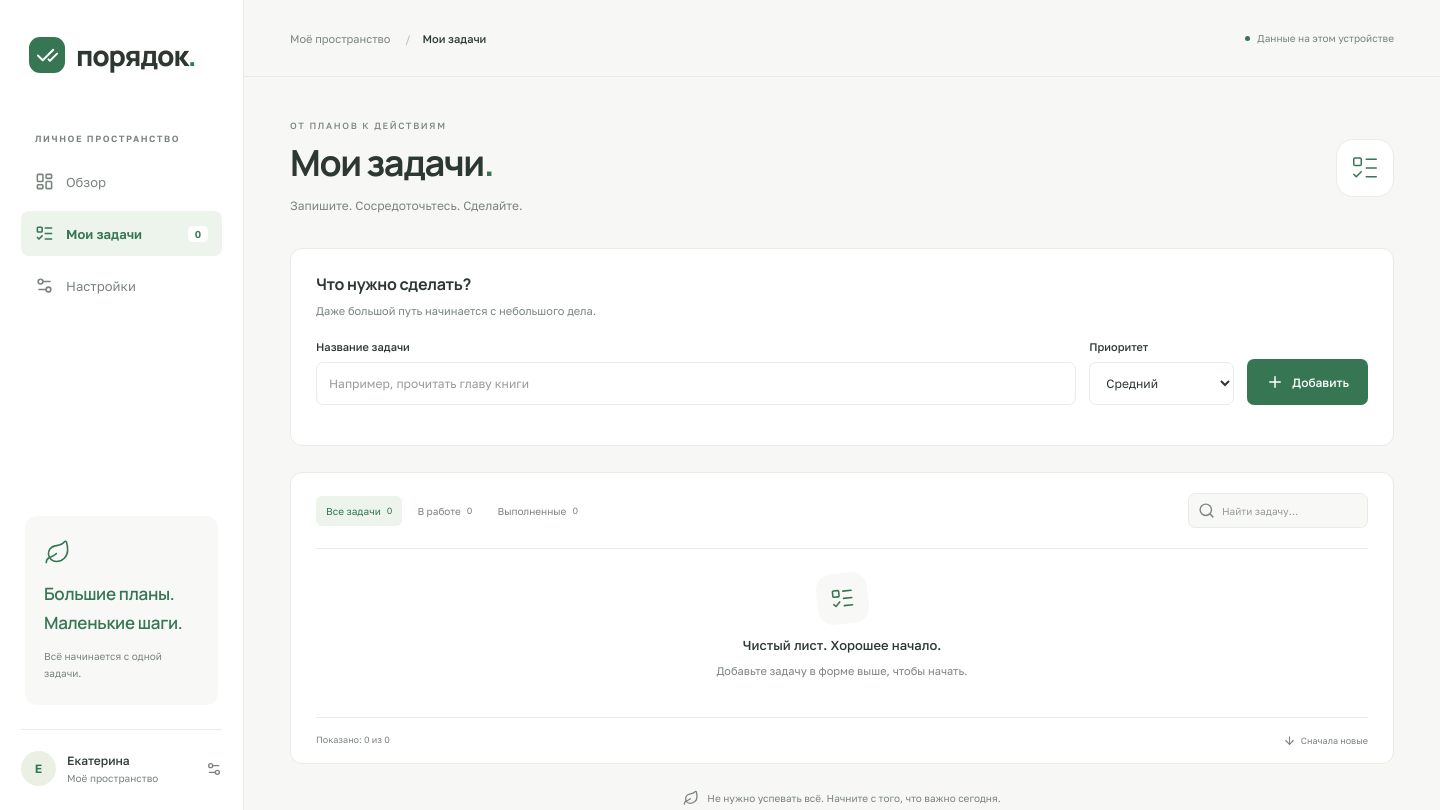
Test: добавляет задачу через форму и обновляет обзор после перехода
Type "Изучить роутинг" into the field labelled "Название задачи".
click(696, 384); type("Изучить роутинг")  # box x1=316 y1=362 x2=1076 y2=406
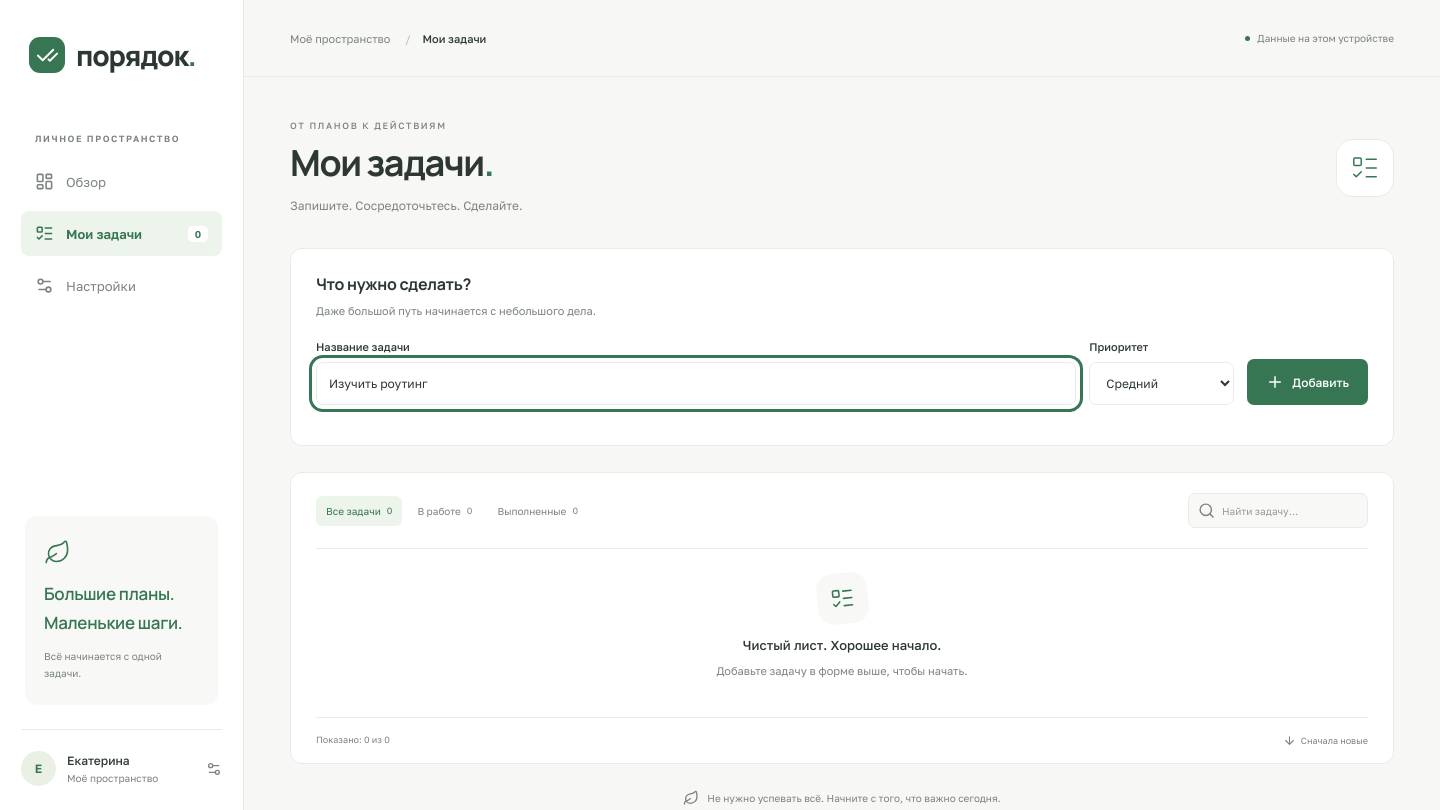
Click the button "Добавить".
click(1308, 382)  # box x1=1247 y1=360 x2=1368 y2=406
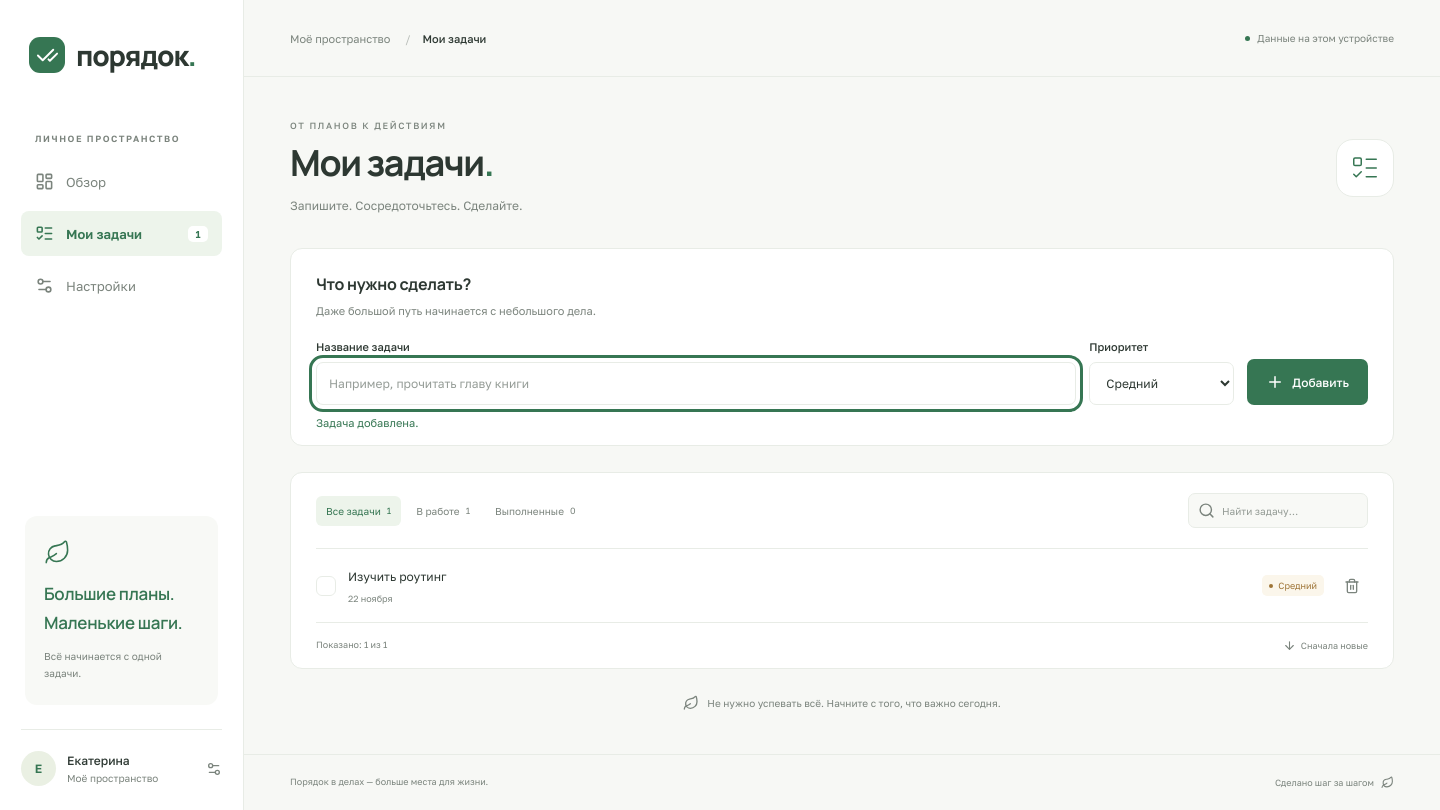
Check: the text "Изучить роутинг" is shown, box x1=348 y1=570 x2=446 y2=584
Click the checkbox named "Завершить: Изучить роутинг".
click(326, 586)  # box x1=316 y1=576 x2=336 y2=596
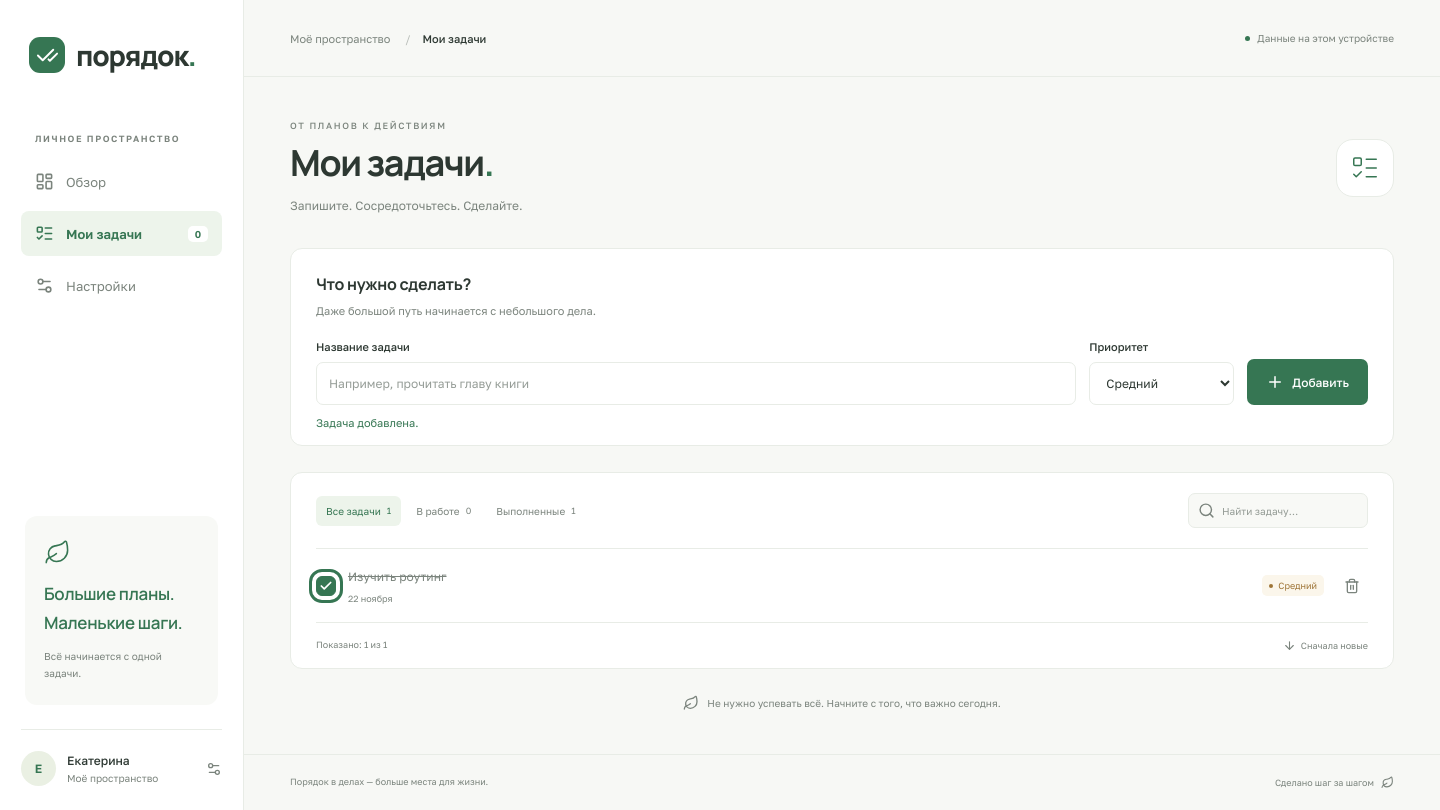
Click the link "Обзор".
click(70, 182)  # box x1=35 y1=172 x2=106 y2=191
(page scrolled)
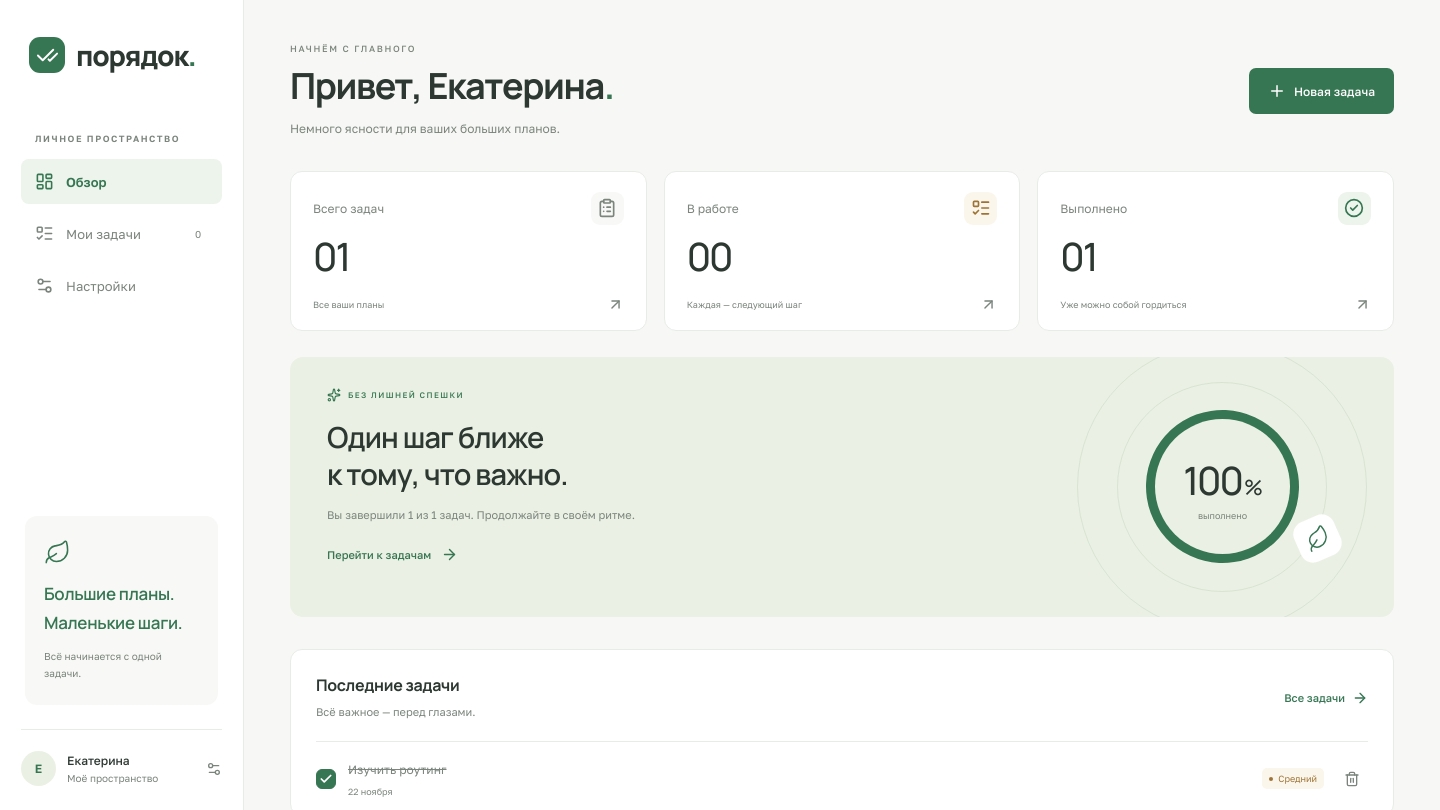
Check: the heading "Привет, Екатерина." is shown, box x1=290 y1=61 x2=614 y2=111
Check: the button "Выполнено 01 Уже можно собой гордиться" is shown, box x1=1037 y1=171 x2=1394 y2=331
Check: the text "100" is shown, box x1=1183 y1=453 x2=1241 y2=507
